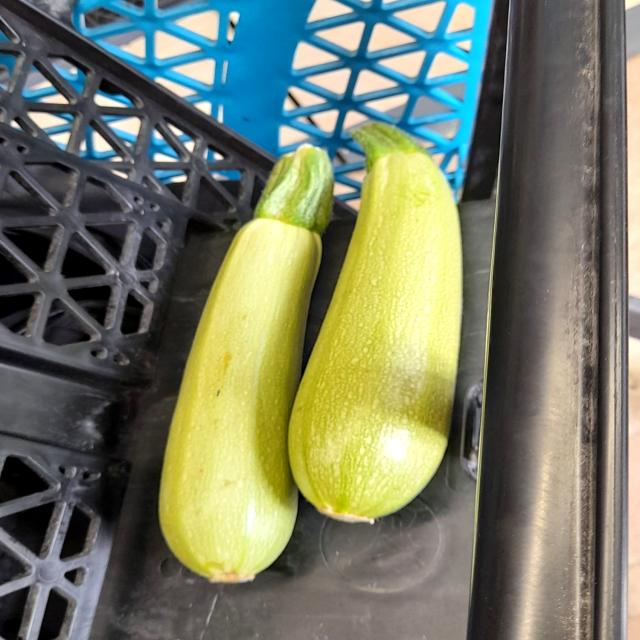zucchini: (146, 135, 362, 591), (273, 113, 464, 528)
